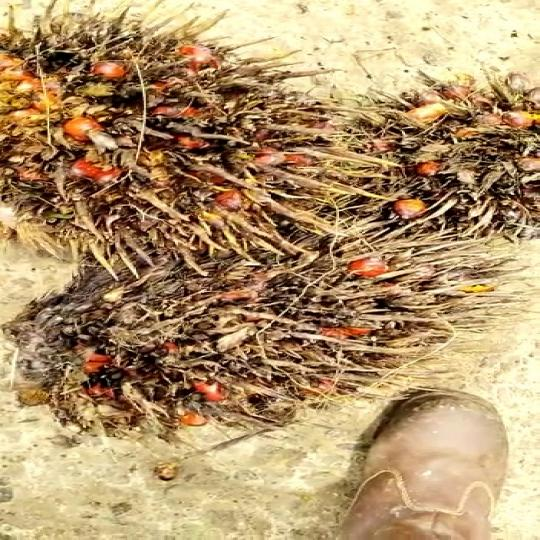terlalu masak: (0, 220, 504, 443), (0, 17, 338, 246), (324, 77, 539, 239)
